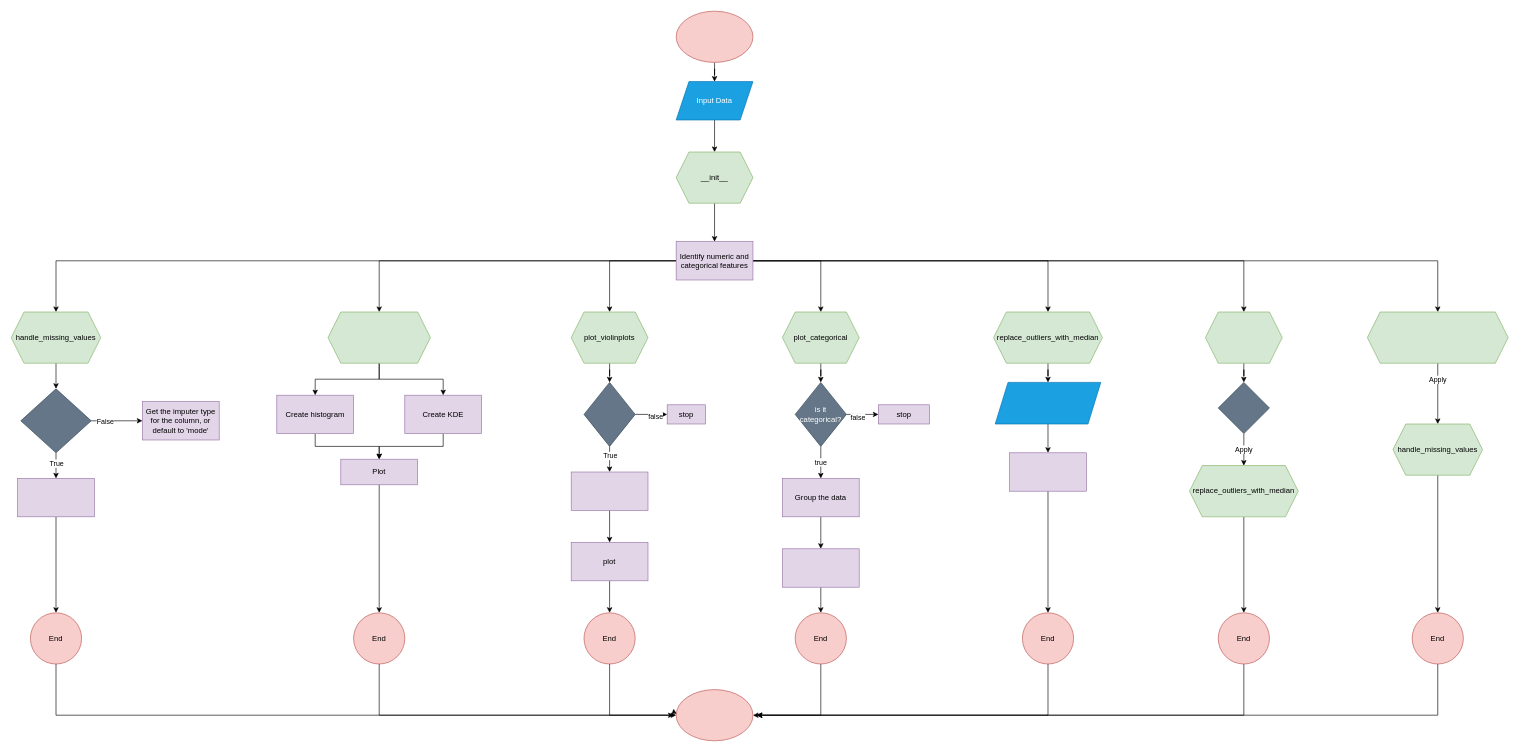
The diagram is 1519 pixels wide and 752 high, and some of its shapes have lost their labels. The shapes that lost their labels are listed below. From the top down, each one's box as (x1, y1, x2, y2) in pixels, then its label:
(676, 11, 753, 62): Start EDA
(327, 311, 430, 363): plot_numeric_histograms
(1205, 311, 1282, 363): replace_outliers
(1367, 311, 1508, 363): get_data_with_handled_missing_values
(20, 388, 91, 453): is it a numeric column?
(583, 382, 635, 446): is it numerical?
(995, 382, 1101, 424): input percentile and data series
(1218, 382, 1269, 434): For every column
(571, 471, 648, 510): Create violin graphic
(1009, 452, 1086, 491): replace values
(17, 478, 94, 517): # Get the imputer type for the column, or default to 'median'
(782, 548, 859, 587): Create a bar graph
(676, 689, 753, 741): End EDA
